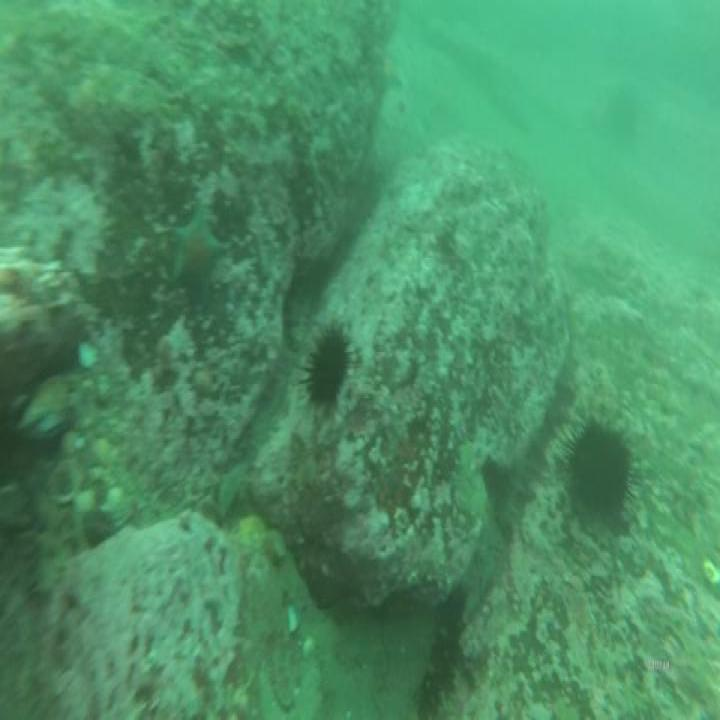echinus: (569, 421, 630, 519), (310, 331, 347, 405)
starfish: (169, 215, 222, 285)
